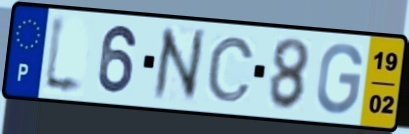6: (97, 23, 141, 98)
8: (267, 36, 311, 114)
C: (205, 35, 257, 105)
G: (314, 41, 366, 117)
L: (40, 11, 87, 100)
N: (151, 25, 207, 104)
